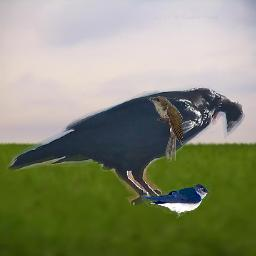Crow: (5, 85, 245, 209)
Cuckoo: (147, 96, 183, 162)
Swallow: (141, 184, 211, 218)
